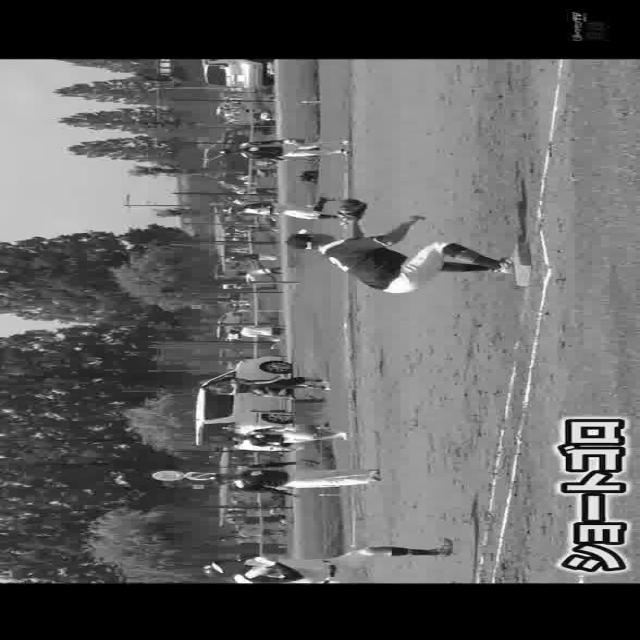base: (514, 242, 534, 286)
baseball_glove: (336, 197, 372, 224), (296, 456, 322, 468)
shoe: (431, 534, 461, 558), (498, 250, 520, 272), (363, 465, 386, 483)
